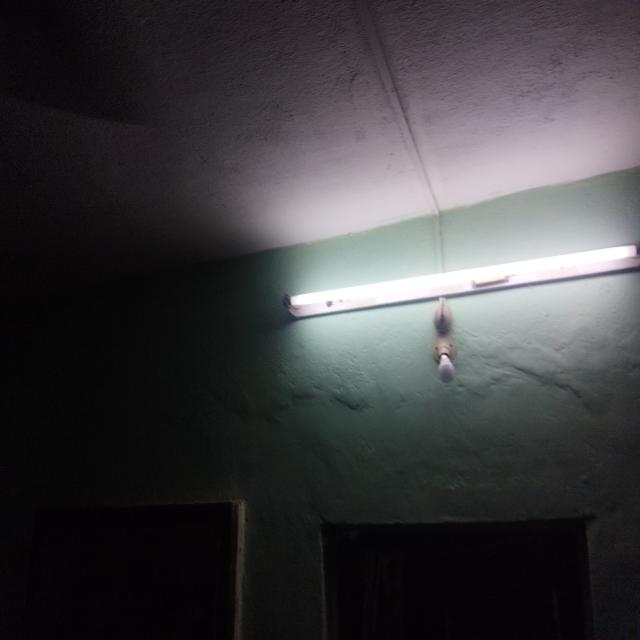tubelight_on: (279, 241, 640, 323)
